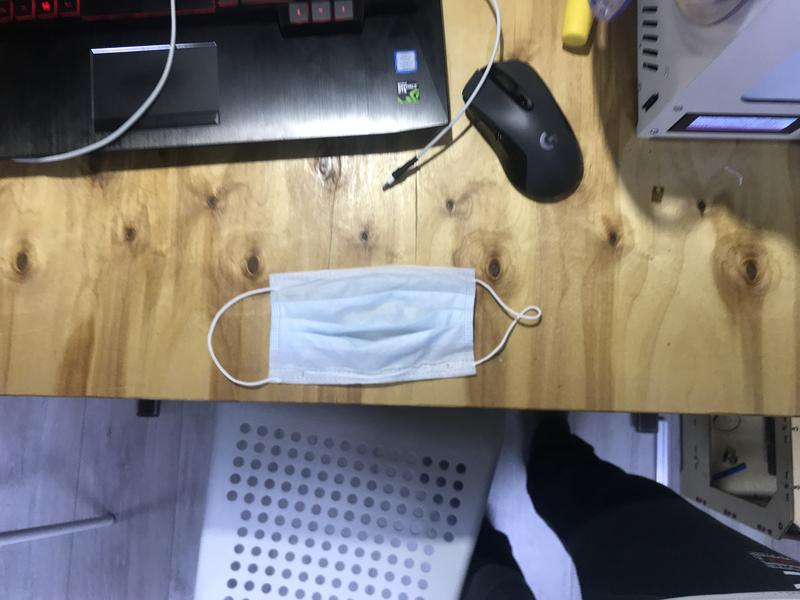medical_mask: (207, 266, 541, 389)
